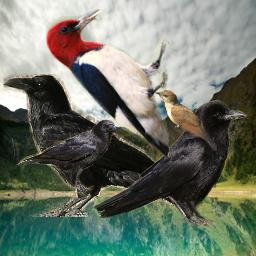Crow: (3, 74, 198, 217), (92, 100, 247, 226), (15, 119, 116, 199)
Cuckoo: (155, 90, 217, 151)
Woodpecker: (44, 9, 169, 157)
